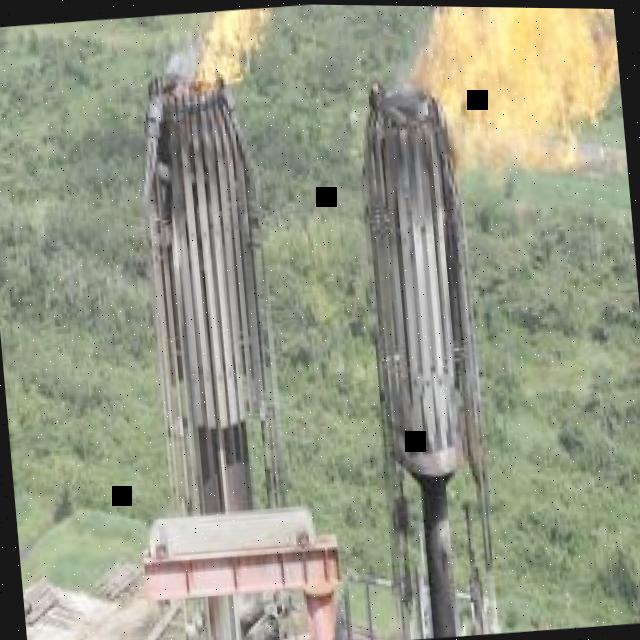fire: (402, 5, 619, 184), (195, 6, 270, 84)
